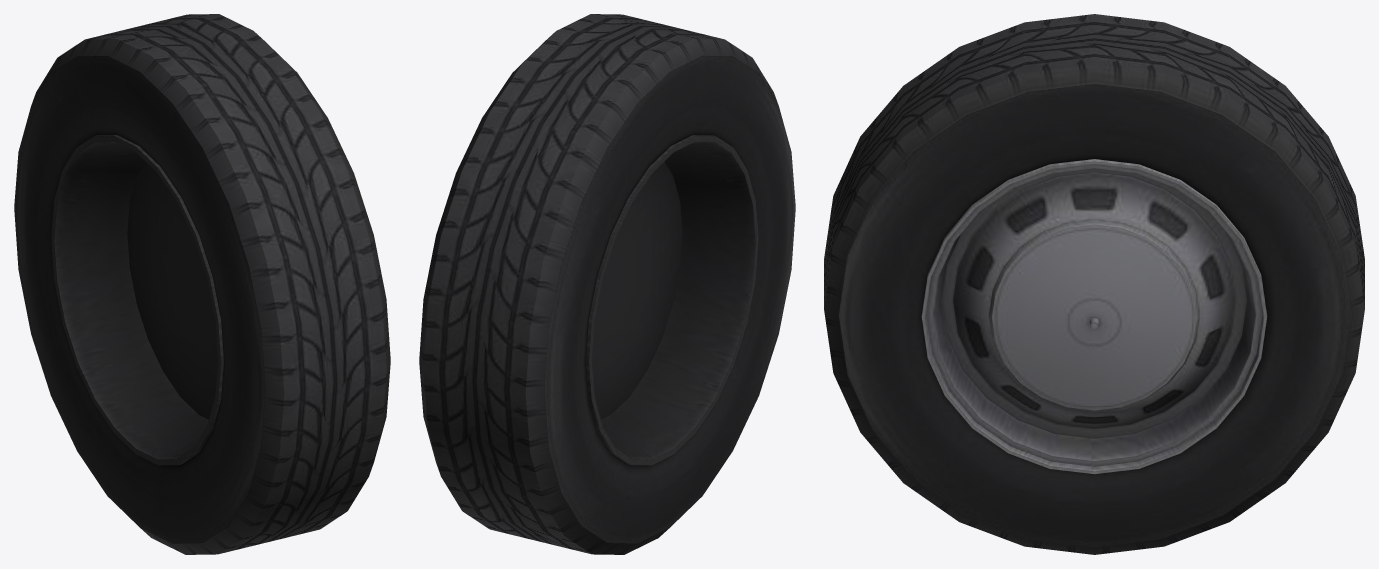
The model's file is renault6_wheelLF.glb.
3 renders of one model, left to right at view 1: azimuth 30°, elevation 25°; view 2: azimuth 150°, elevation 25°; view 3: azimuth 270°, elevation 25°, orthographic.
Visible parts, largest first — view 1: LF_WHEEL_R6_Wheels_0; view 2: LF_WHEEL_R6_Wheels_0; view 3: LF_WHEEL_R6_Wheels_0.
Boxes of the visible parts, box(x1,y1,x2,y2) form: LF_WHEEL_R6_Wheels_0: box(14, 14, 390, 554); LF_WHEEL_R6_Wheels_0: box(419, 14, 795, 554); LF_WHEEL_R6_Wheels_0: box(824, 14, 1364, 554).
Bounding box in the file's own units: 0.4765 × 1.46 × 1.46.
Materials: 1 (1 with a texture image).
